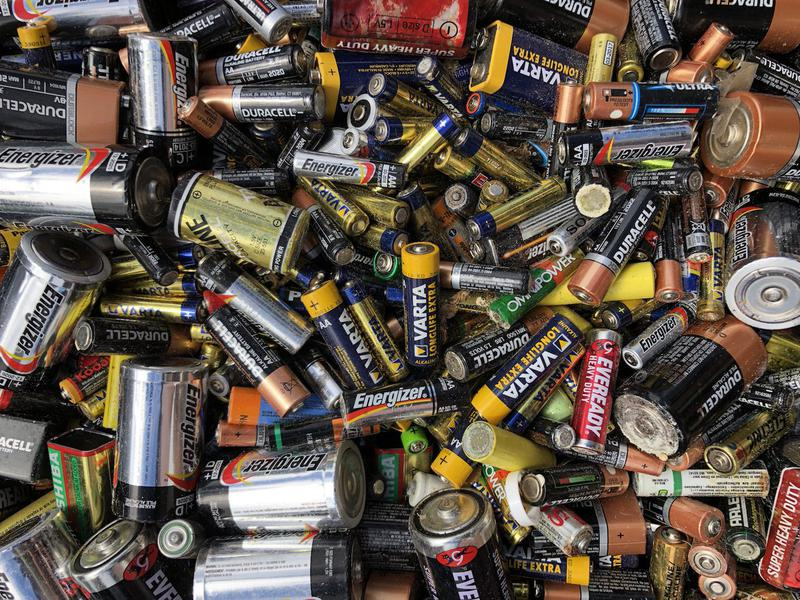battery: (612, 310, 770, 454), (107, 349, 213, 528), (191, 434, 372, 534), (1, 136, 169, 234), (164, 165, 311, 275), (199, 302, 313, 424), (563, 184, 672, 309), (467, 313, 586, 424), (121, 28, 211, 165), (567, 318, 624, 456), (392, 236, 448, 372), (332, 373, 463, 431), (548, 120, 703, 167), (578, 74, 725, 123), (461, 179, 571, 242), (697, 409, 800, 474), (289, 144, 412, 193), (458, 418, 563, 472), (519, 464, 635, 511), (633, 466, 770, 502)
